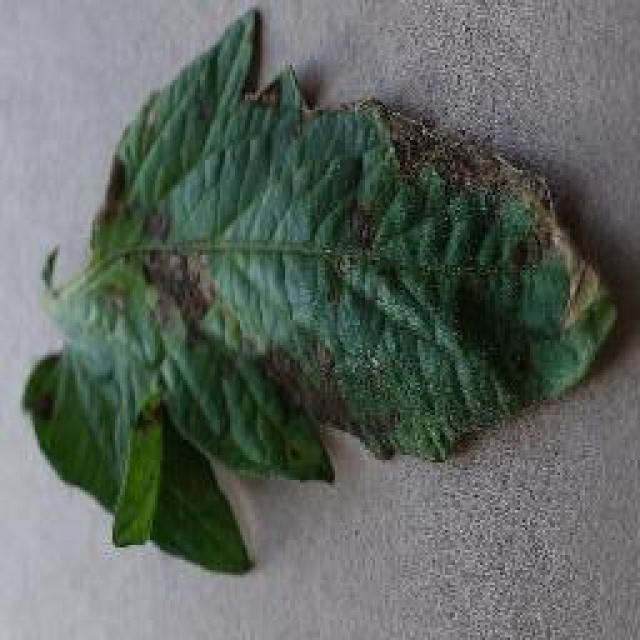Tomato Early blight leaf: (35, 26, 625, 536)
